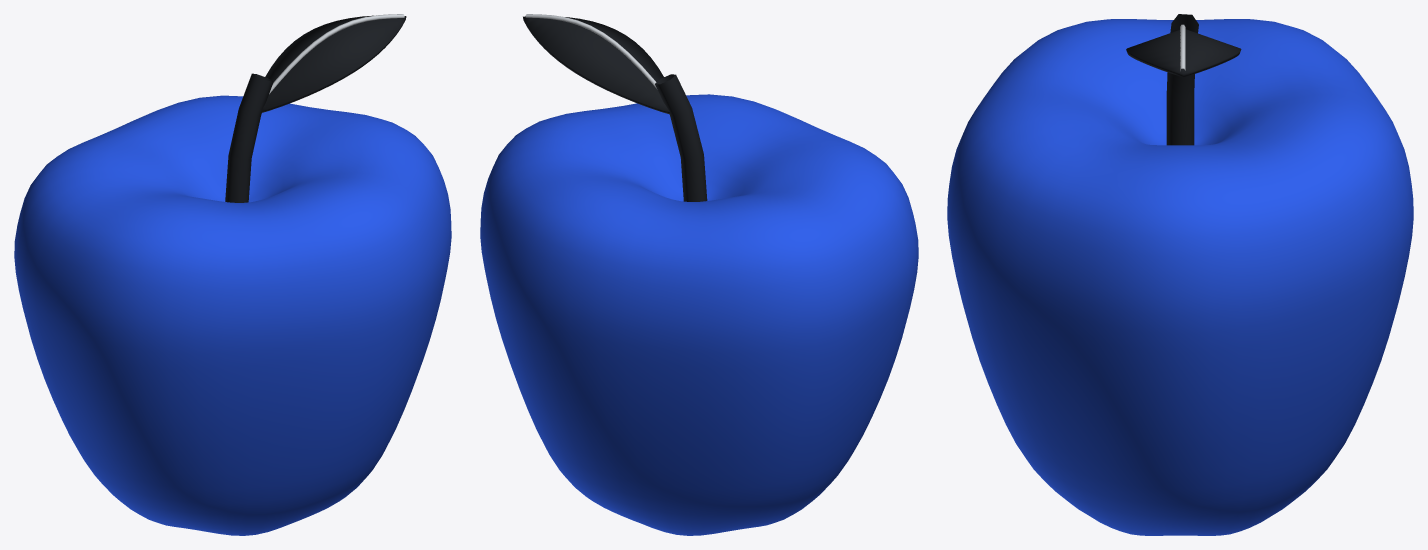
Rendered from nutrition.glb.
3 renders of one model, left to right at view 1: azimuth 30°, elevation 25°; view 2: azimuth 150°, elevation 25°; view 3: azimuth 270°, elevation 25°, orthographic. The views are drawn at different scales.
Parts seen in each view (by area): view 1: SM_AppleBody, SM_ModelGeometry_LiftGraphite, SM_LeafVein; view 2: SM_AppleBody, SM_ModelGeometry_LiftGraphite, SM_LeafVein; view 3: SM_AppleBody, SM_ModelGeometry_LiftGraphite.
Part boxes in pixels (<box>): SM_AppleBody: <box>14,95,451,535</box>; SM_ModelGeometry_LiftGraphite: <box>225,15,406,202</box>; SM_LeafVein: <box>269,14,404,94</box>; SM_AppleBody: <box>480,94,918,535</box>; SM_ModelGeometry_LiftGraphite: <box>523,16,707,201</box>; SM_LeafVein: <box>525,14,657,89</box>; SM_AppleBody: <box>947,19,1413,535</box>; SM_ModelGeometry_LiftGraphite: <box>1126,14,1241,145</box>.
Size of the model in its own units: 1.78 by 2 by 1.58.
